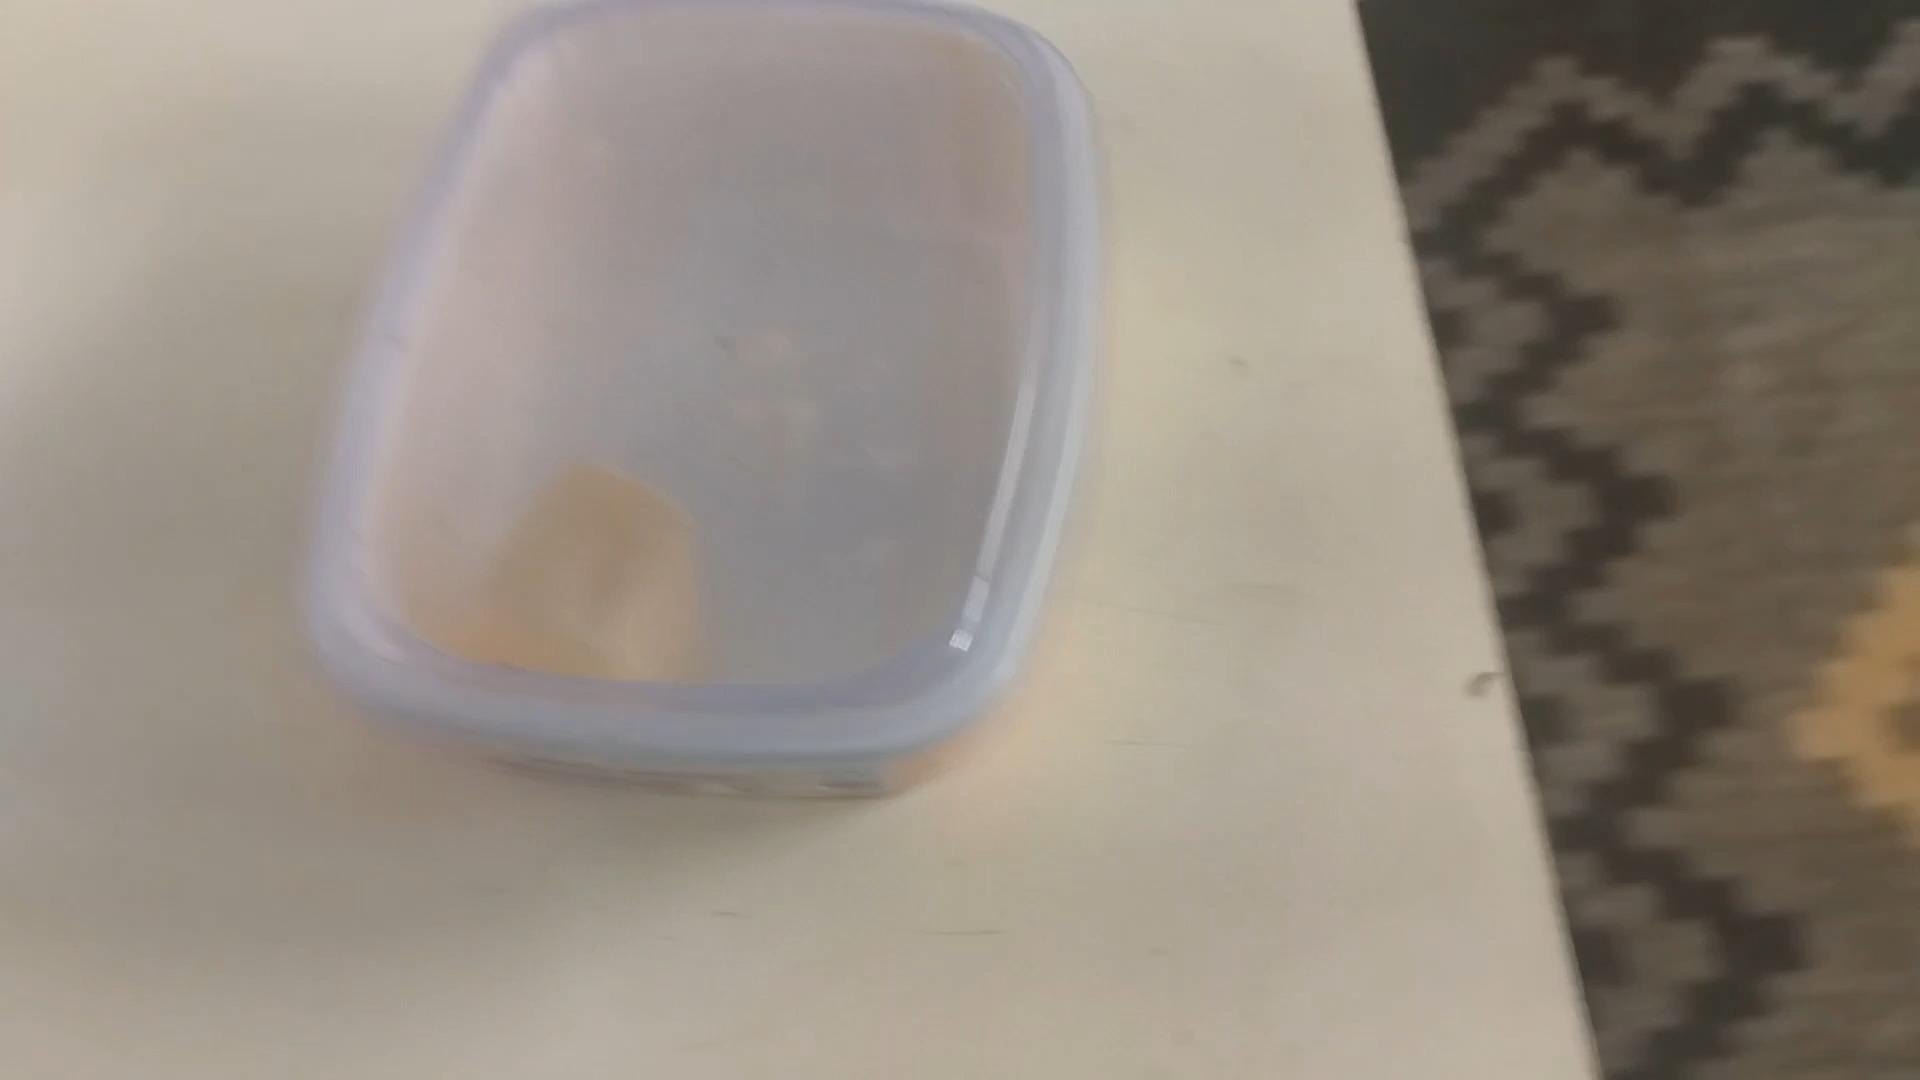butter: (302, 0, 1087, 799)
